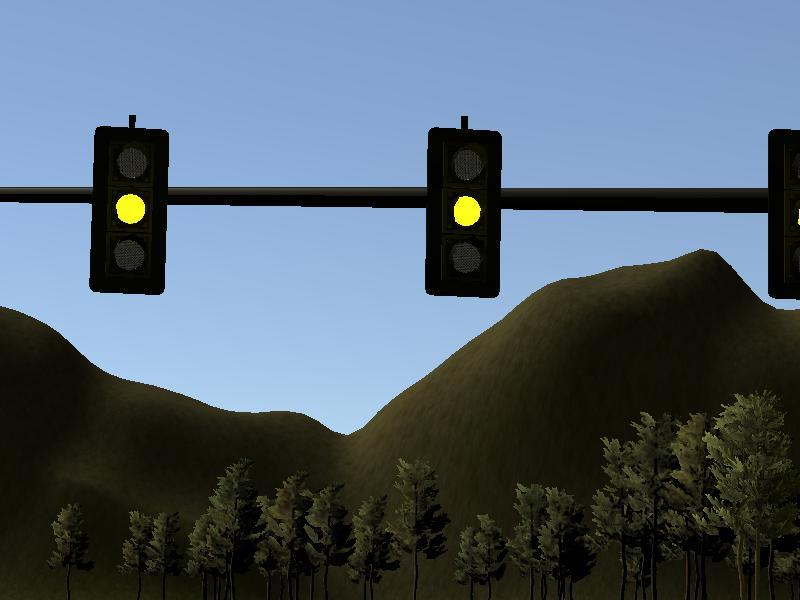Yellow: (89, 125, 170, 295), (424, 127, 502, 299), (767, 129, 800, 300)
